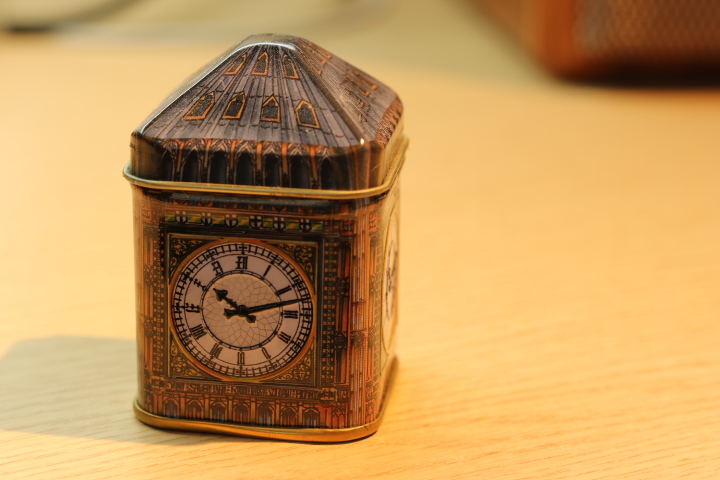Big Ben: (112, 30, 447, 450)
